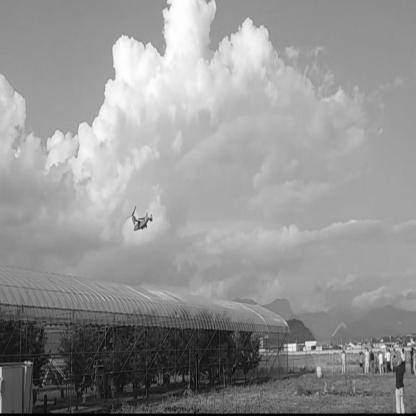V22: (125, 206, 154, 233)
